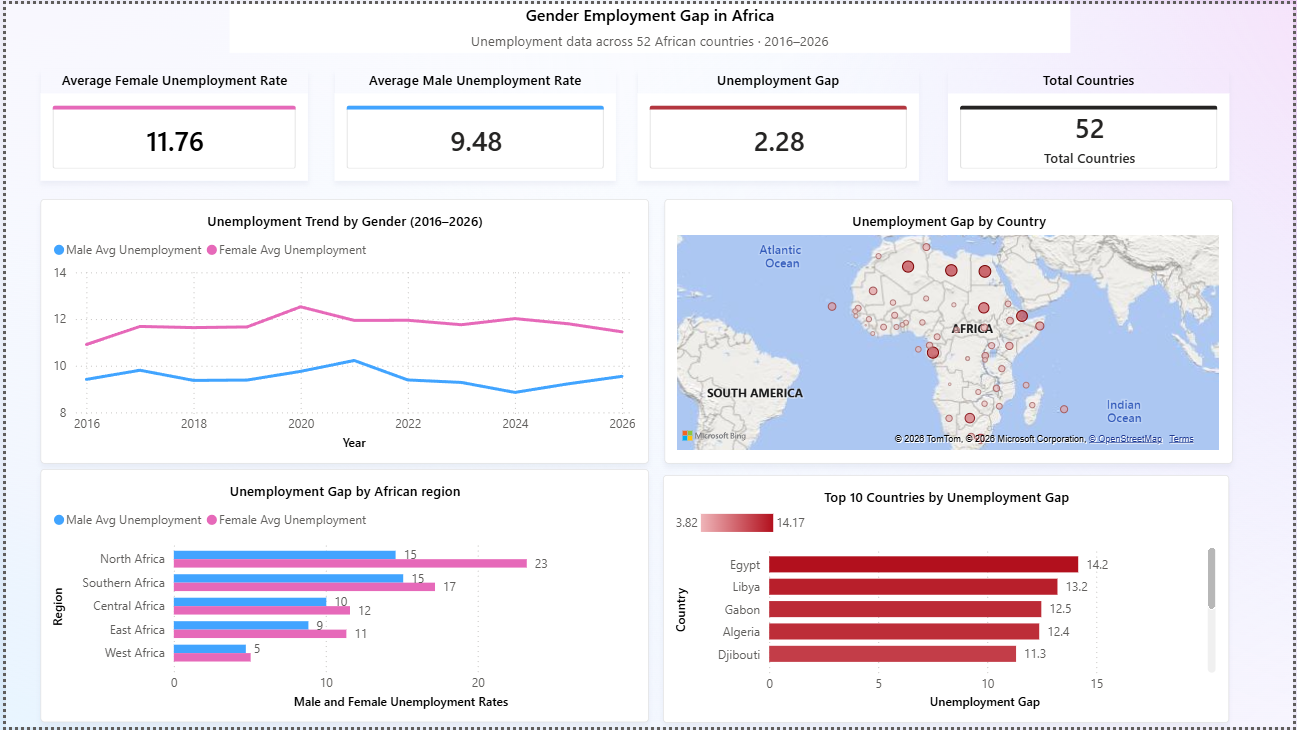

Layout of this report page (visuals, bound fields, positions):
{"tool":"powerbi","page":{"name":"Overview","canvas":[1280,720],"ordinal":0},"visuals":[{"type":"map","fields":{"Category":["final cleaned sheet.Country"],"Size":["final cleaned sheet.Gender Gap"]},"box":[655,193.3,565,263.3],"z":0},{"type":"cardVisual","title":"Average Female Unemployment Rate","fields":{"Data":["final cleaned sheet.Female Avg Rate"]},"box":[35,65,266.7,110],"z":1000},{"type":"cardVisual","title":"Average Male Unemployment Rate","fields":{"Data":["final cleaned sheet.Male Avg Rate"]},"box":[326.7,65,280,110],"z":2000},{"type":"cardVisual","title":"Unemployment Gap","fields":{"Data":["final cleaned sheet.Gender Gap"]},"box":[628.3,65,280,110],"z":3000},{"type":"cardVisual","title":"Total Countries","fields":{"Data":["final cleaned sheet.Total Countries"]},"box":[936.7,65,280,110],"z":4000},{"type":"lineChart","title":"Unemployment Trend by Gender (2016–2026)","fields":{"Category":["final cleaned sheet.Year"],"Y":["final cleaned sheet.Male Avg Rate","final cleaned sheet.Female Avg Rate"]},"box":[35,193.3,605,263.3],"z":5000},{"type":"clusteredBarChart","title":"Unemployment Gap by African region","fields":{"Category":["final cleaned sheet.Region"],"Y":["final cleaned sheet.Male Avg Rate","final cleaned sheet.Female Avg Rate"]},"box":[35,463.3,605,251.7],"z":6000},{"type":"clusteredBarChart","title":"Top 10 Countries by Unemployment Gap","fields":{"Category":["final cleaned sheet.Country"],"Y":["final cleaned sheet.Gender Gap"]},"box":[653.7,462.7,567.2,252.2],"z":11000},{"type":"textbox","title":"Gender Employment  Gap in Africa","box":[221.7,0,836.7,48.3],"z":11001}]}

Visuals, with their boxes in screenshot pixels (x1, y1, x2, y2), scaled from the page's 1280x720 canvas onto the 1297x730 screenshot:
map - final cleaned sheet.Country x final cleaned sheet.Gender Gap: left=664, top=196, right=1236, bottom=463
"Average Female Unemployment Rate" cardVisual: left=35, top=66, right=306, bottom=177
"Average Male Unemployment Rate" cardVisual: left=331, top=66, right=615, bottom=177
"Unemployment Gap" cardVisual: left=637, top=66, right=920, bottom=177
"Total Countries" cardVisual: left=949, top=66, right=1233, bottom=177
"Unemployment Trend by Gender (2016–2026)" lineChart: left=35, top=196, right=648, bottom=463
"Unemployment Gap by African region" clusteredBarChart: left=35, top=470, right=648, bottom=725
"Top 10 Countries by Unemployment Gap" clusteredBarChart: left=662, top=469, right=1237, bottom=725
"Gender Employment  Gap in Africa" textbox: left=225, top=0, right=1072, bottom=49
